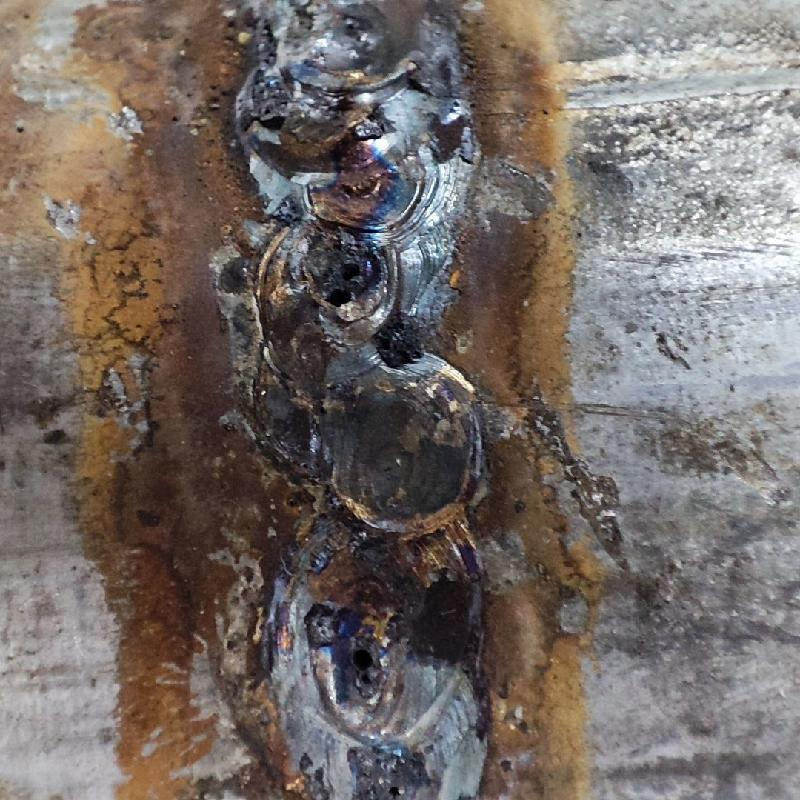Surface_pores: (307, 235, 373, 317), (333, 630, 383, 686)
crater: (253, 2, 495, 754)
